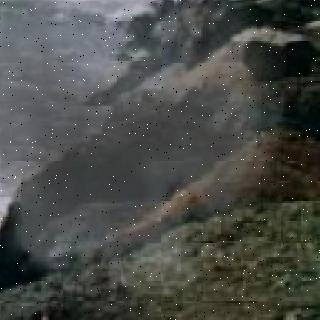smoke: (0, 0, 282, 256)
